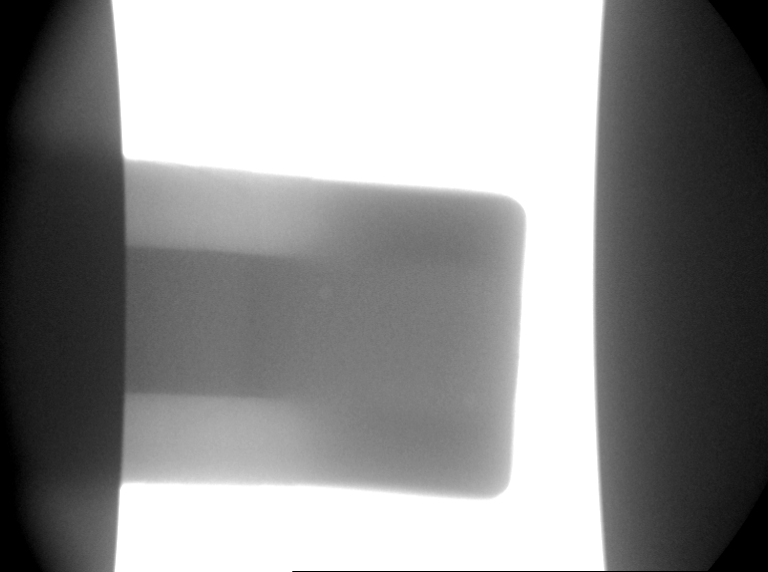defect: (317, 281, 336, 302)
